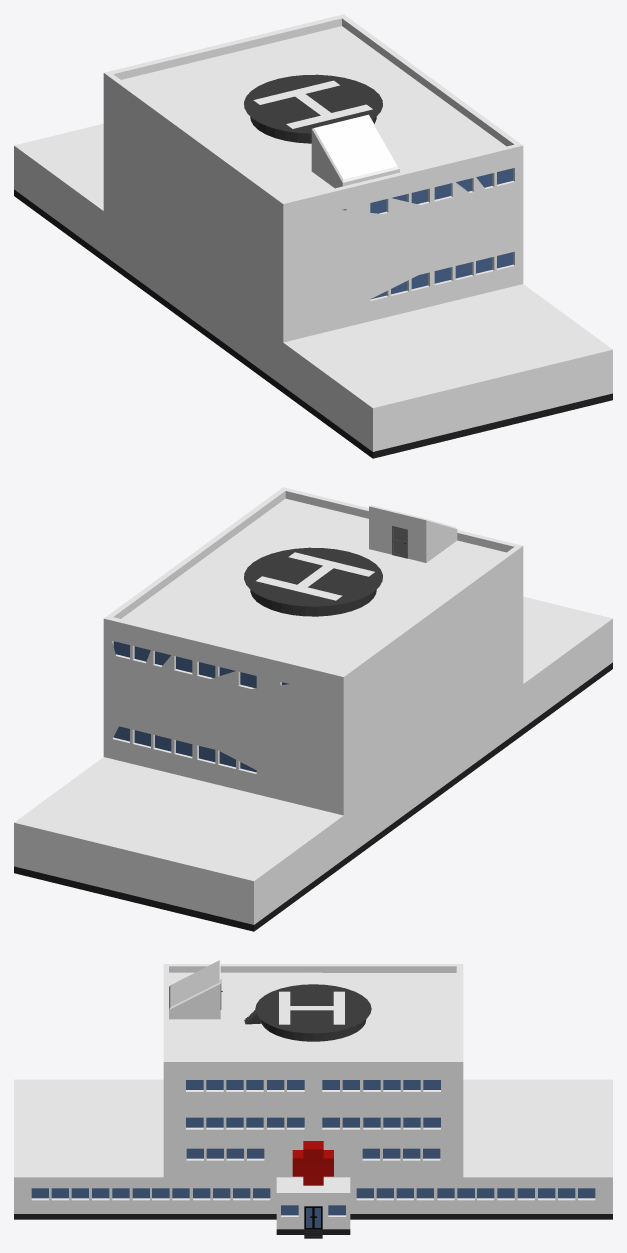
File: Hospital.fbx
3 renders of one model, top to bottom at view 1: azimuth 30°, elevation 25°; view 2: azimuth 150°, elevation 25°; view 3: azimuth 270°, elevation 25°, orthographic. The views are drawn at different scales.
Visible parts, largest first — view 1: Building_Hospital; view 2: Building_Hospital; view 3: Building_Hospital.
Boxes of the visible parts, box(x1,y1,x2,y2) form: Building_Hospital: box(14, 14, 612, 458); Building_Hospital: box(14, 487, 612, 931); Building_Hospital: box(14, 960, 612, 1238).
Size of the model in its own units: 36.68 by 27.46 by 79.43.
1 material, 1 textured.
